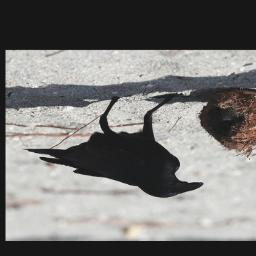Crow: (22, 92, 205, 198)
